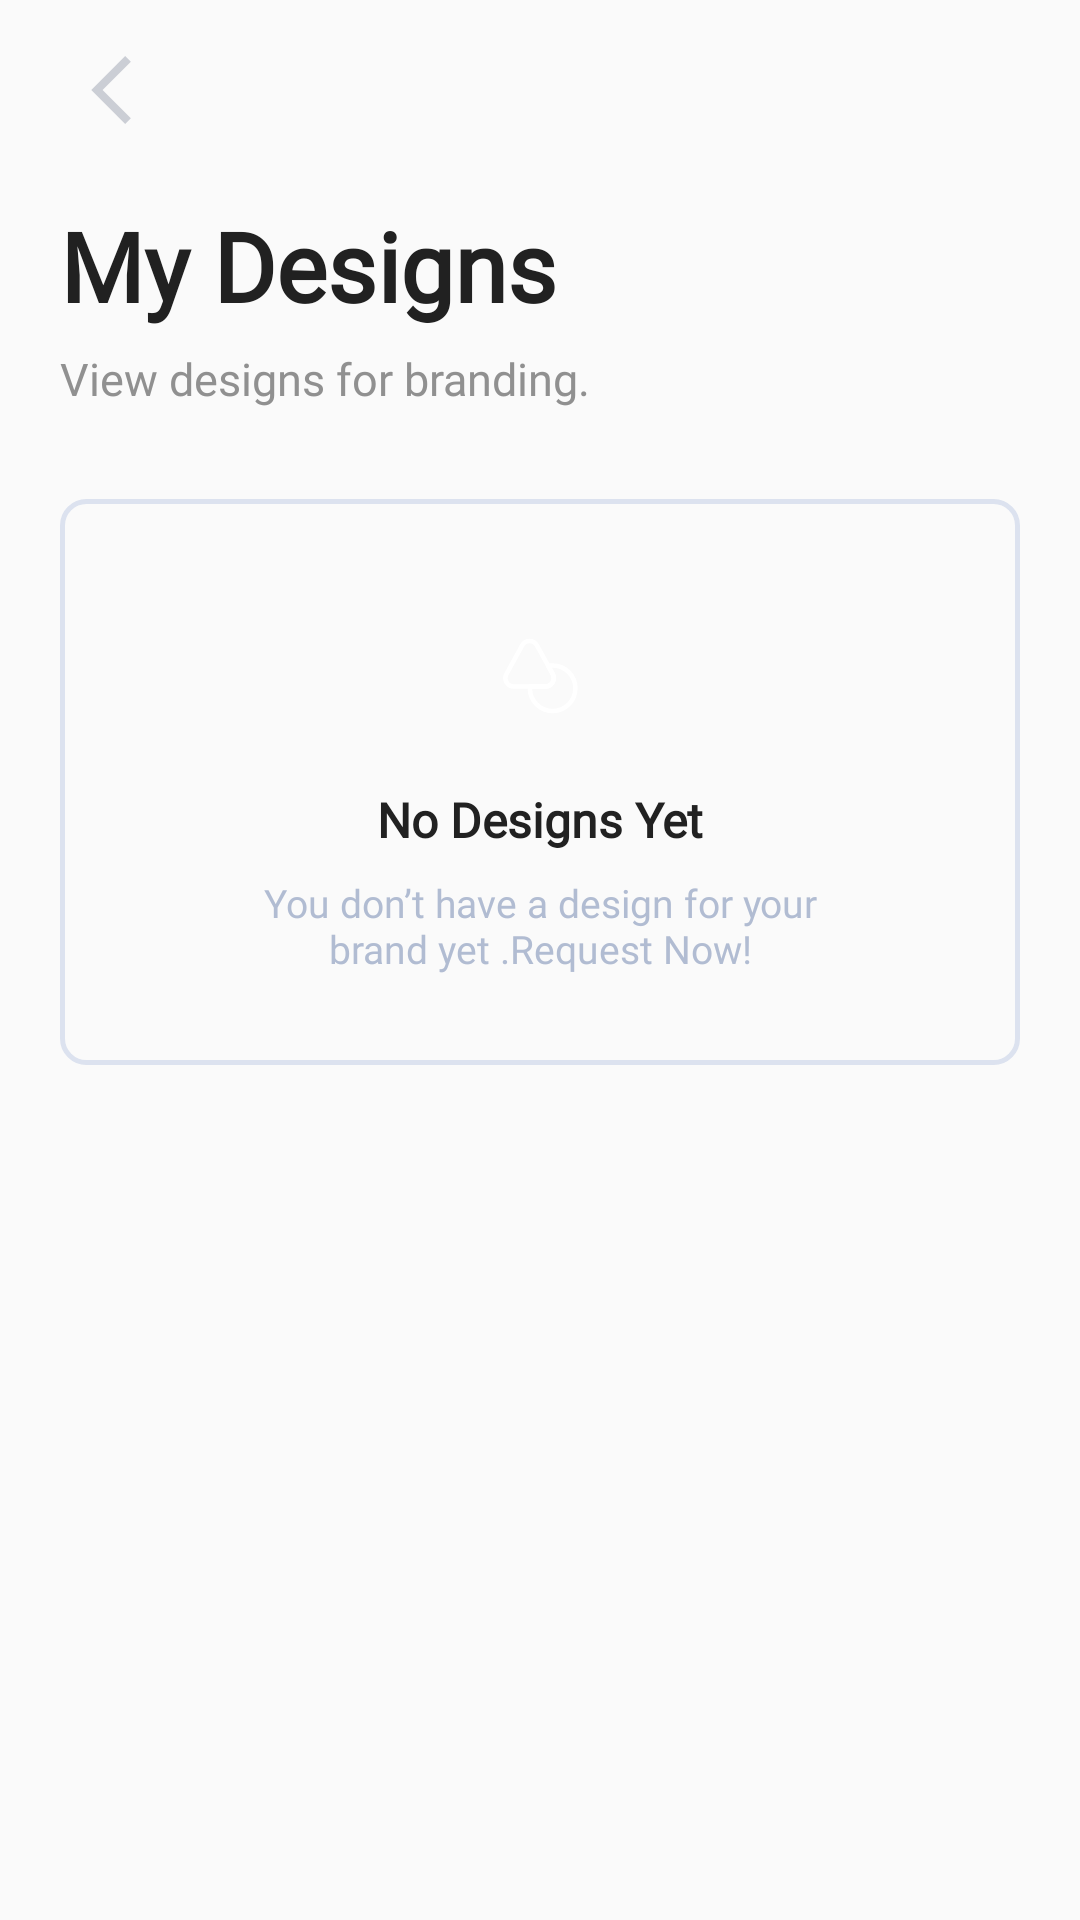

Where to tap for icons on this 1080px x 1920px app screen, as (x,y):
back: (111,90)
